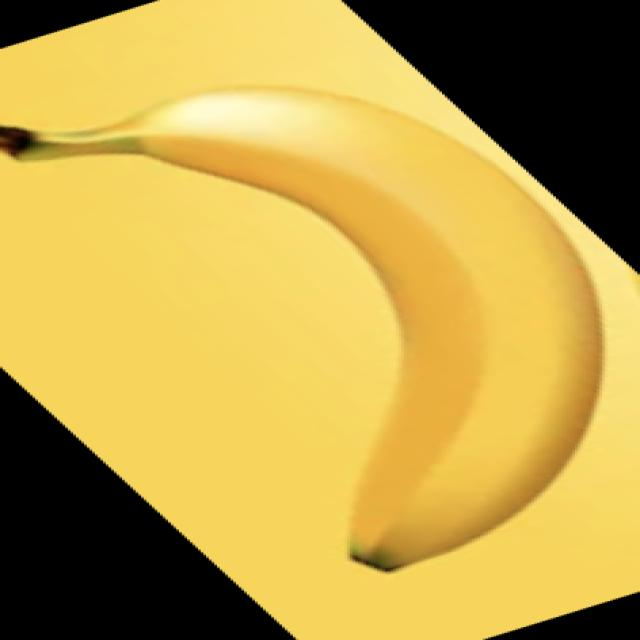god quality banana: (0, 88, 602, 572)
